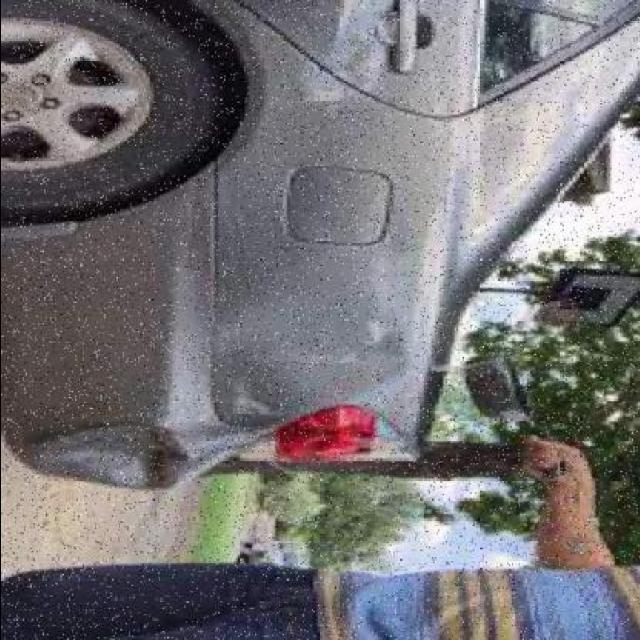doorouter-dent: (156, 0, 488, 118)
quaterpanel-dent: (92, 120, 450, 404)
rear-bumper-dent: (3, 396, 411, 499)
